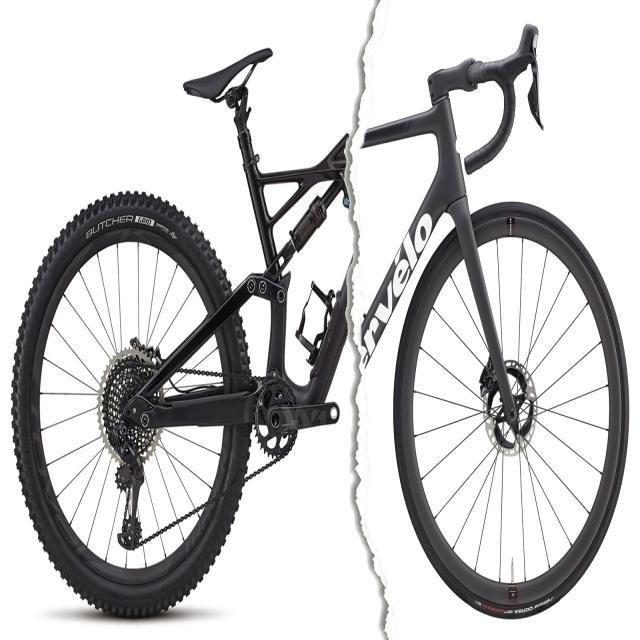bike: (11, 10, 630, 623)
